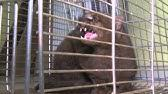Jaguarundi: (50, 12, 136, 85)
